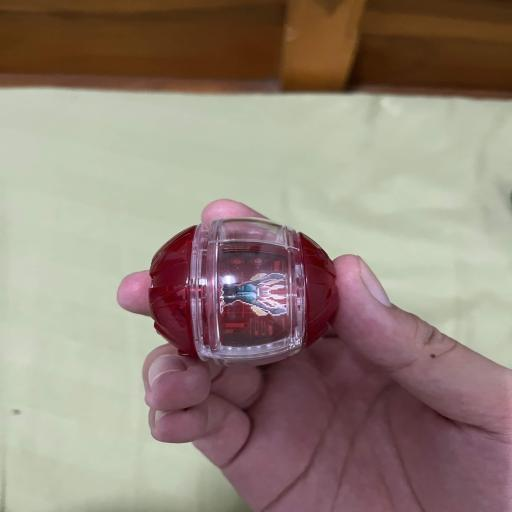capsem: (149, 217, 337, 366)
